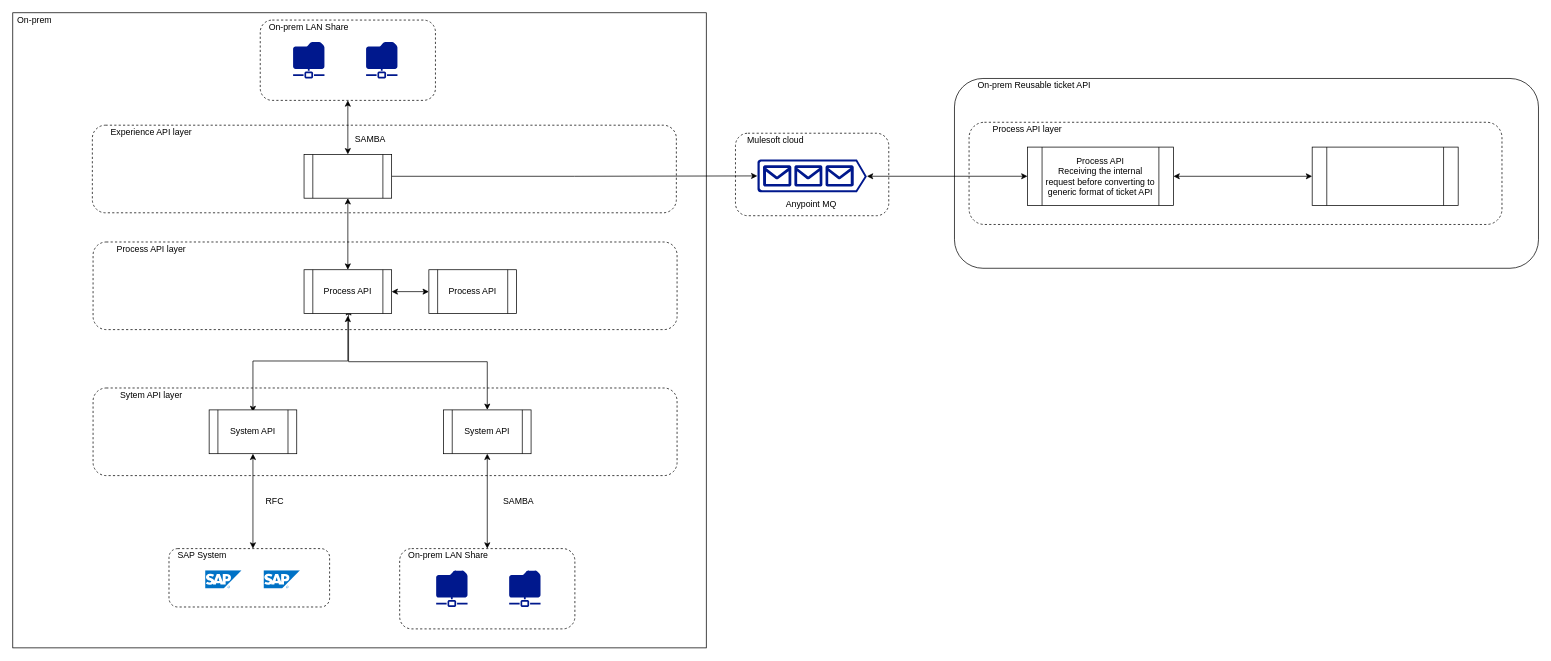
Some shapes in this 1551 by 661 pixel diagram are drawn without their labels. The shapes that lost their labels are listed below. From the top down, each one's centre as x and y in pixels, then its label:
At [347,176]: "Experience API".
At [1384,175]: "Ticket API Responsible for creating actual ticket".
